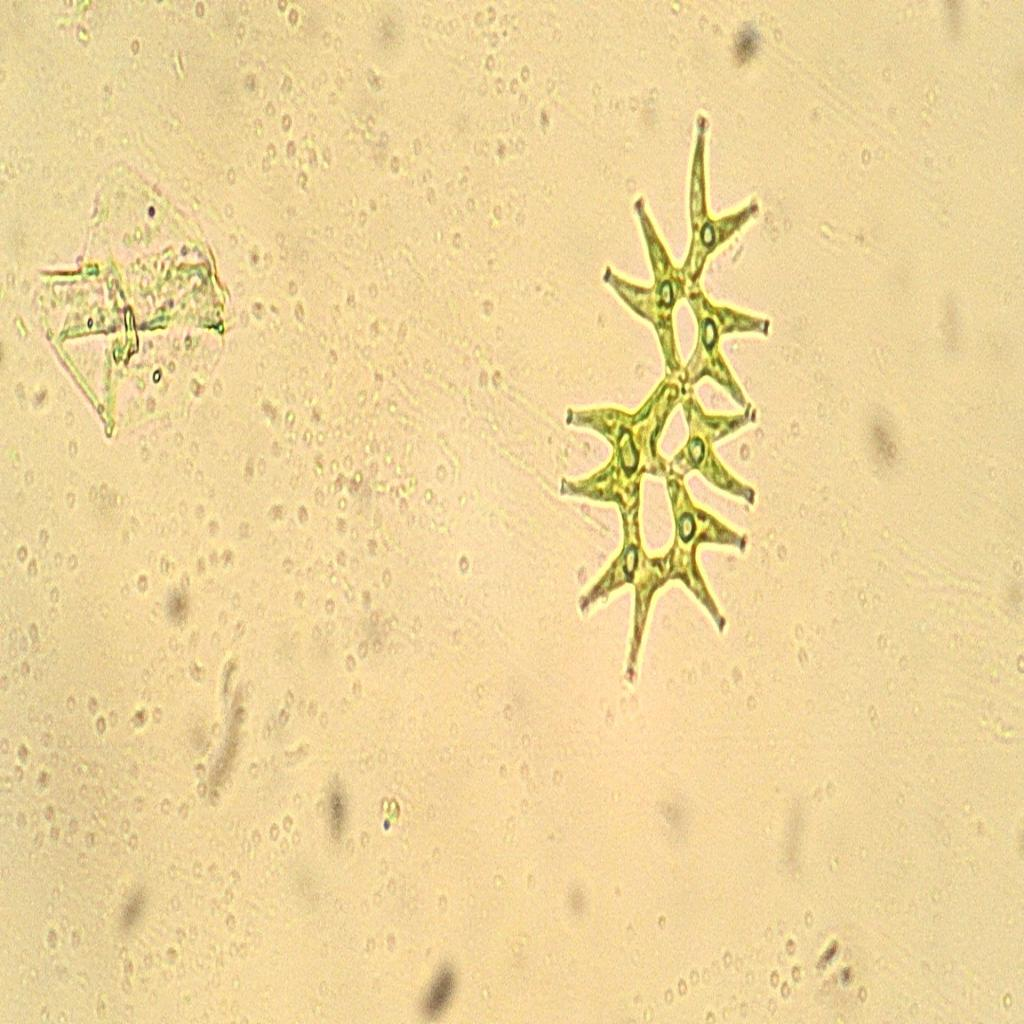Pediastrum_CFI: (553, 102, 789, 699)
